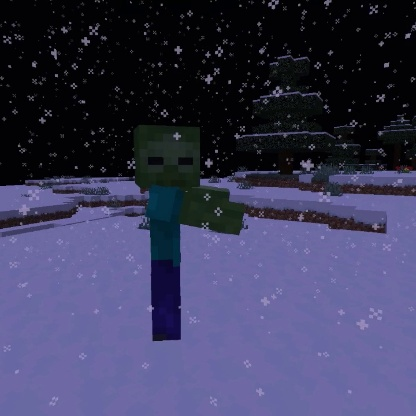zombie: (127, 119, 251, 347)
